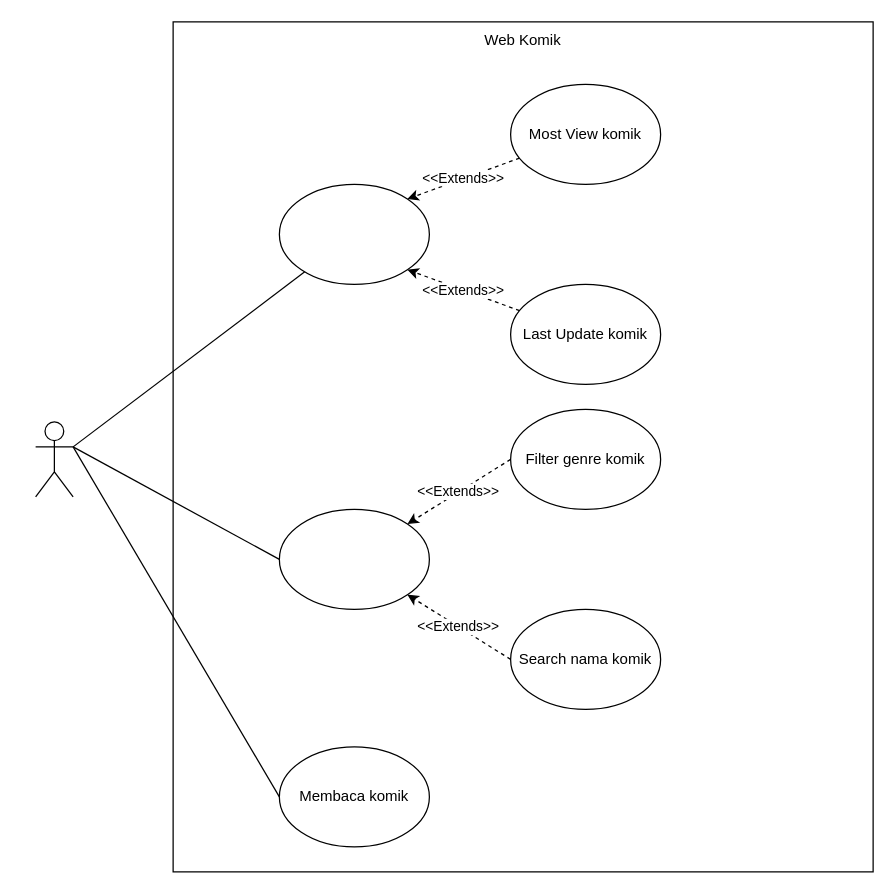
Some shapes in this 895 by 894 pixel diagram are drawn without their labels. Here are the shapes that lost their labels. From the top down, the centre of each, then its label:
At pixel 353 233: "List komik".
At pixel 53 459: "Customer".
At pixel 353 558: "Memilih komik".
